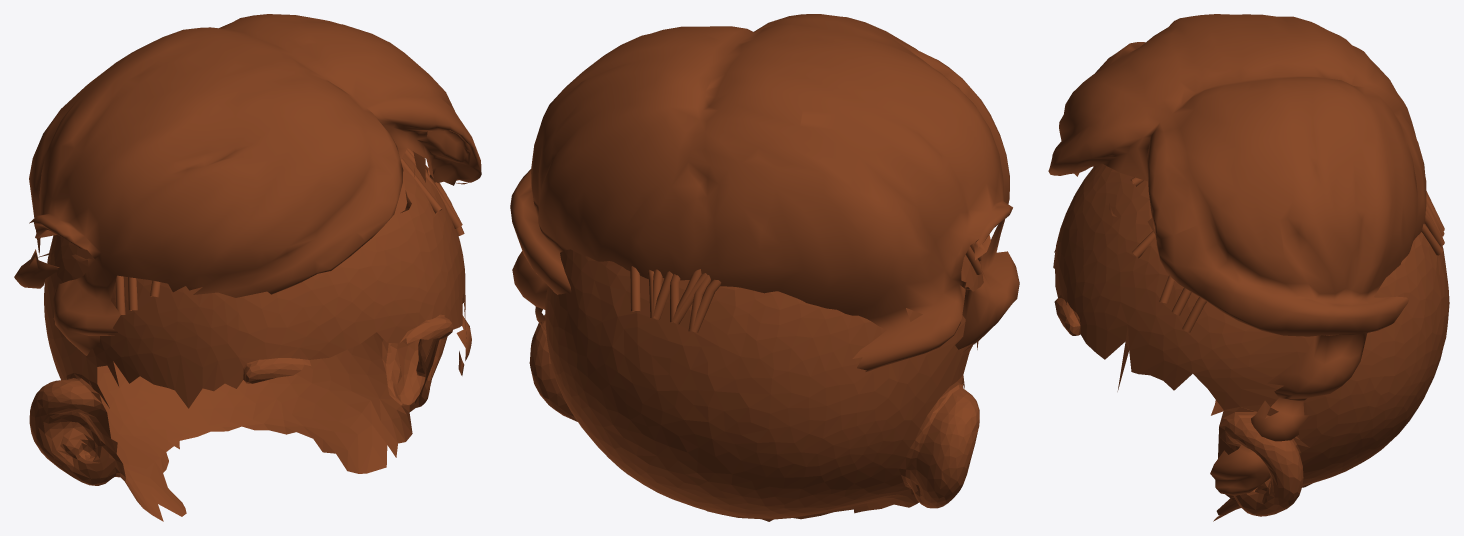
File: braid.glb
3 renders of one model, left to right at view 1: azimuth 30°, elevation 25°; view 2: azimuth 150°, elevation 25°; view 3: azimuth 270°, elevation 25°, orthographic. The views are drawn at different scales.
Parts seen in each view (by area): view 1: Hair, HairScalp, HairPulledRootStrands; view 2: Hair, HairScalp, HairPulledRootStrands; view 3: Hair, HairScalp, HairPulledRootStrands.
Part boxes in pixels (x1=…): Hair: x1=14, y1=14, x2=481, y2=375; HairScalp: x1=29, y1=154, x2=466, y2=521; HairPulledRootStrands: x1=115, y1=148, x2=464, y2=314; Hair: x1=510, y1=14, x2=1019, y2=371; HairScalp: x1=529, y1=241, x2=983, y2=521; HairPulledRootStrands: x1=630, y1=242, x2=982, y2=332; Hair: x1=1048, y1=14, x2=1426, y2=495; HairScalp: x1=1053, y1=163, x2=1449, y2=521; HairPulledRootStrands: x1=1131, y1=177, x2=1444, y2=332.
Size of the model in its own units: 0.5289 by 0.5149 by 0.4431.
